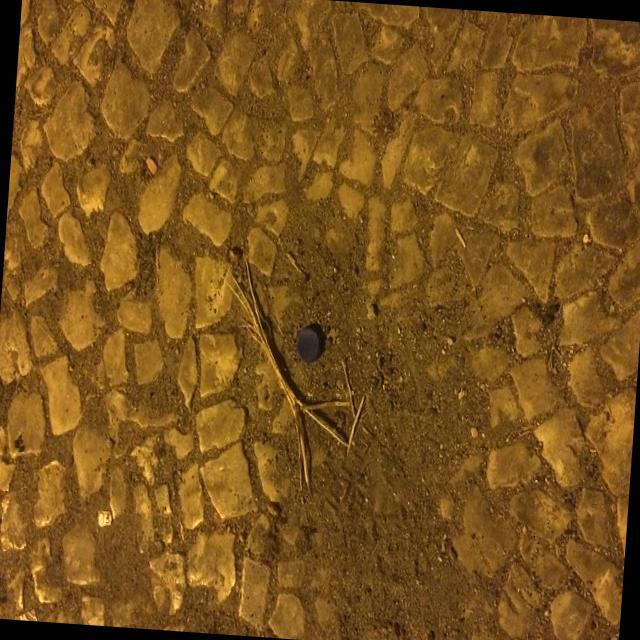Trash: (293, 326, 322, 364), (94, 506, 115, 530)
